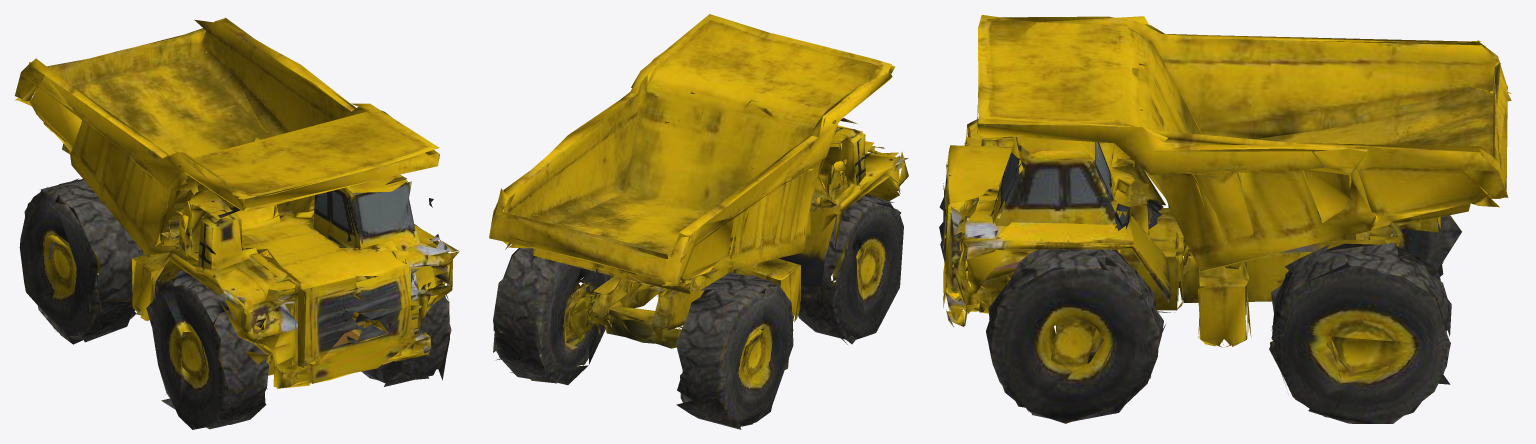
The model's file is steinbruch_kipper.glb.
The picture shows the model from 3 angles, left to right: view 1: azimuth 30°, elevation 25°; view 2: azimuth 150°, elevation 25°; view 3: azimuth 270°, elevation 25°; orthographic projection. The views are drawn at different scales.
Parts seen in each view (by area): view 1: Prop; view 2: Prop; view 3: Prop.
Boxes of the visible parts, <box> form: Prop: <box>14,17,459,429</box>; Prop: <box>489,14,908,429</box>; Prop: <box>939,15,1511,423</box>.
Bounding box in the file's own units: 1.03 × 1.04 × 1.8.
Materials: 1 (1 with a texture image).
